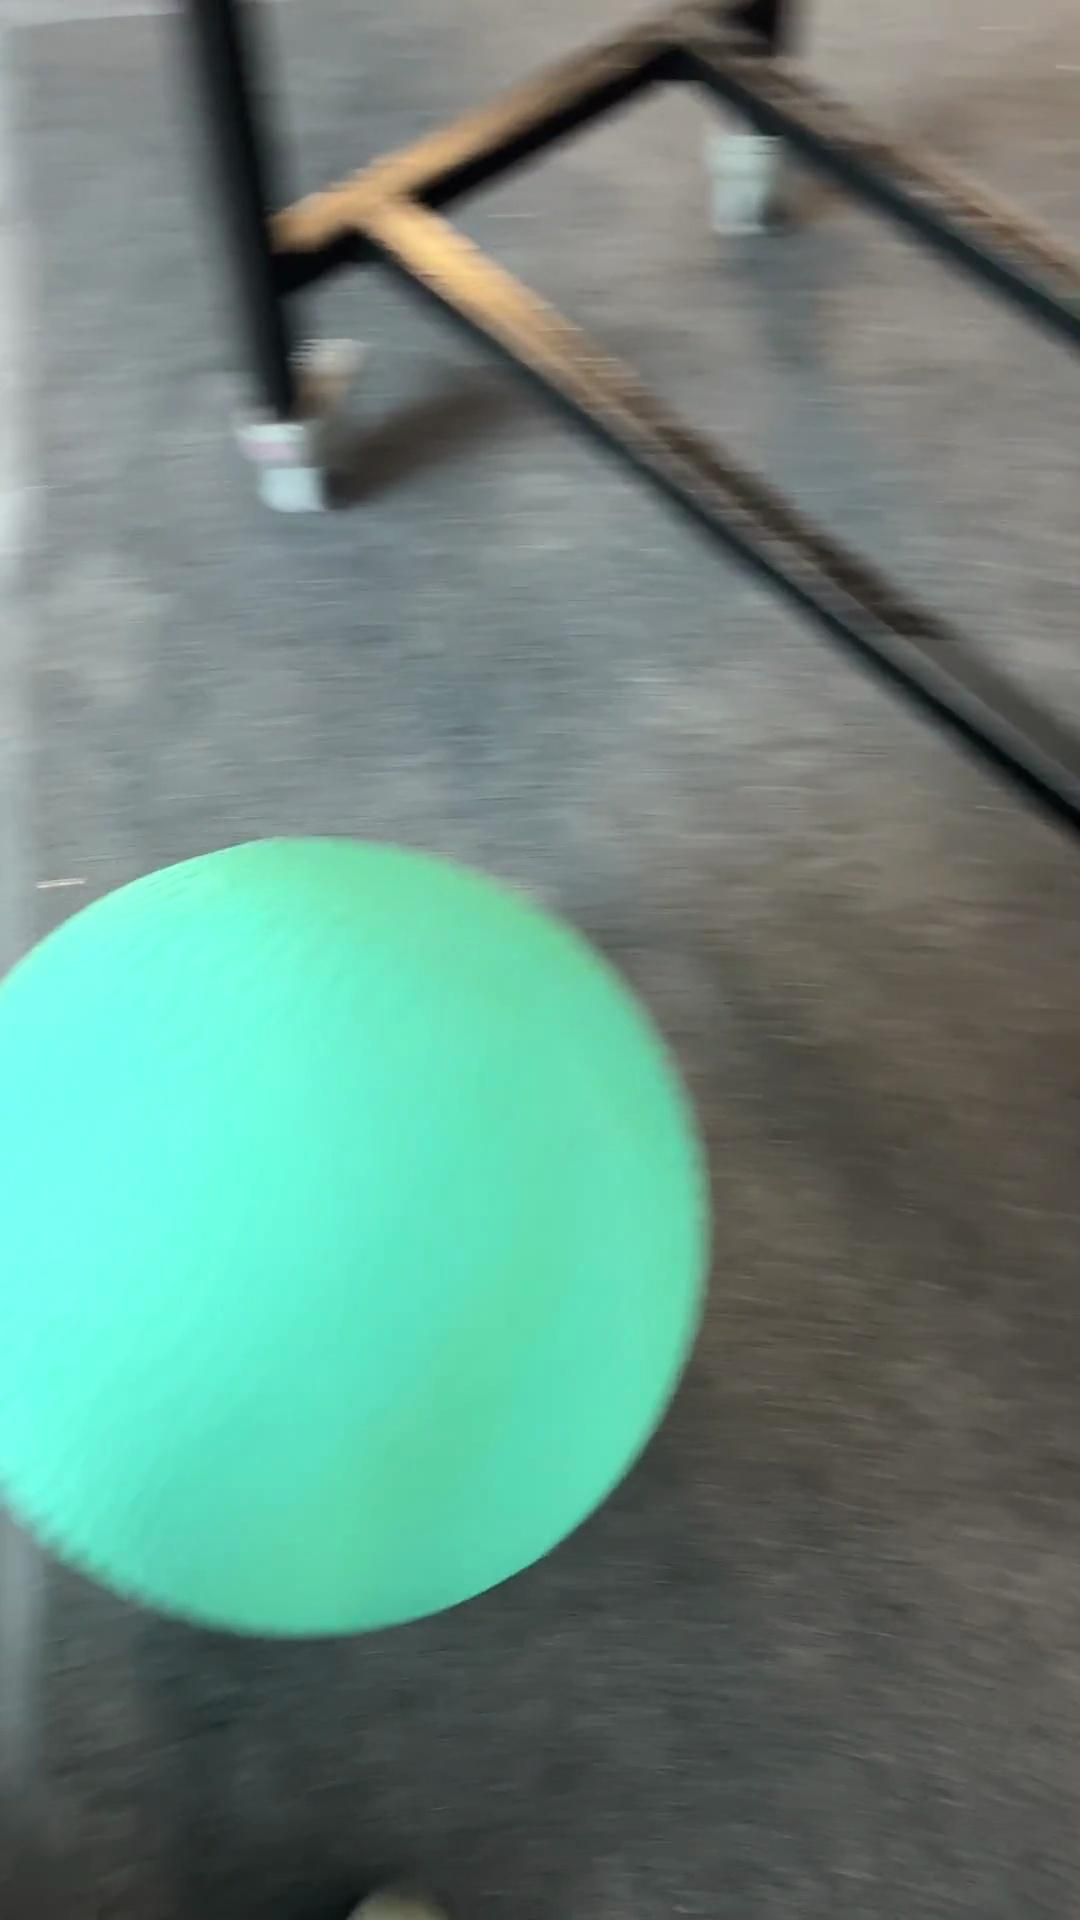ALGAE: (1, 829, 713, 1640)
